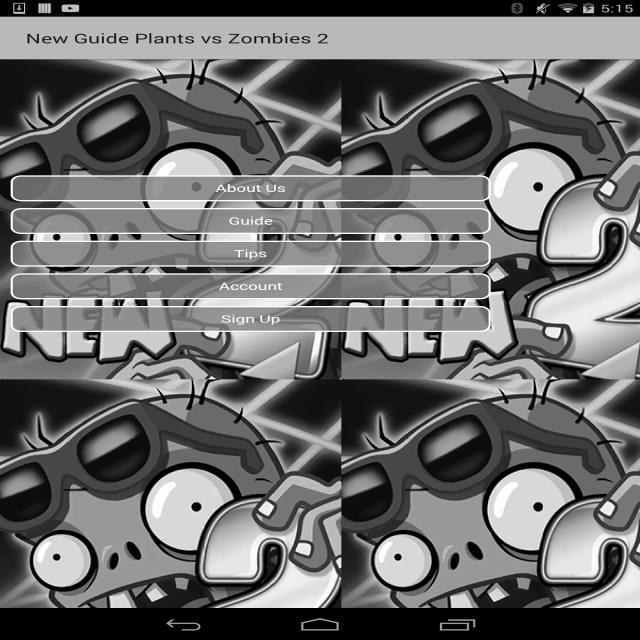Button: (5, 170, 497, 203), (6, 303, 497, 335), (3, 238, 494, 269)
ImageView: (41, 383, 586, 600)
TextView: (17, 28, 336, 47)
